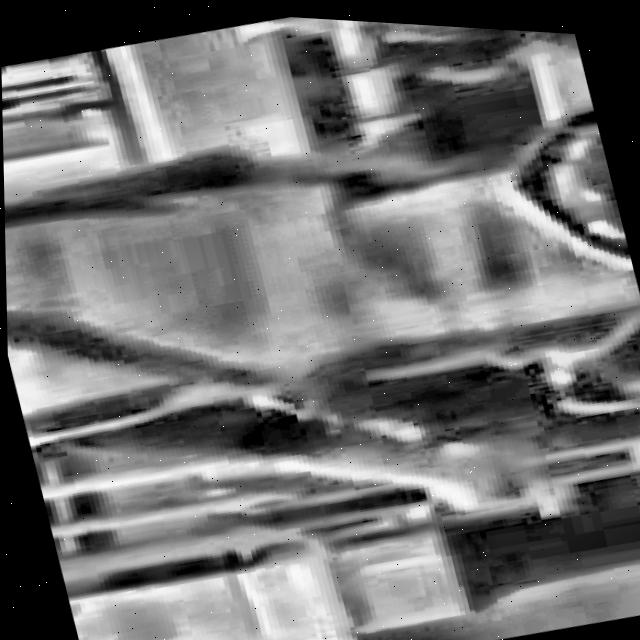Lokomotif: (0, 0, 640, 640)
Lori: (0, 0, 640, 628)
